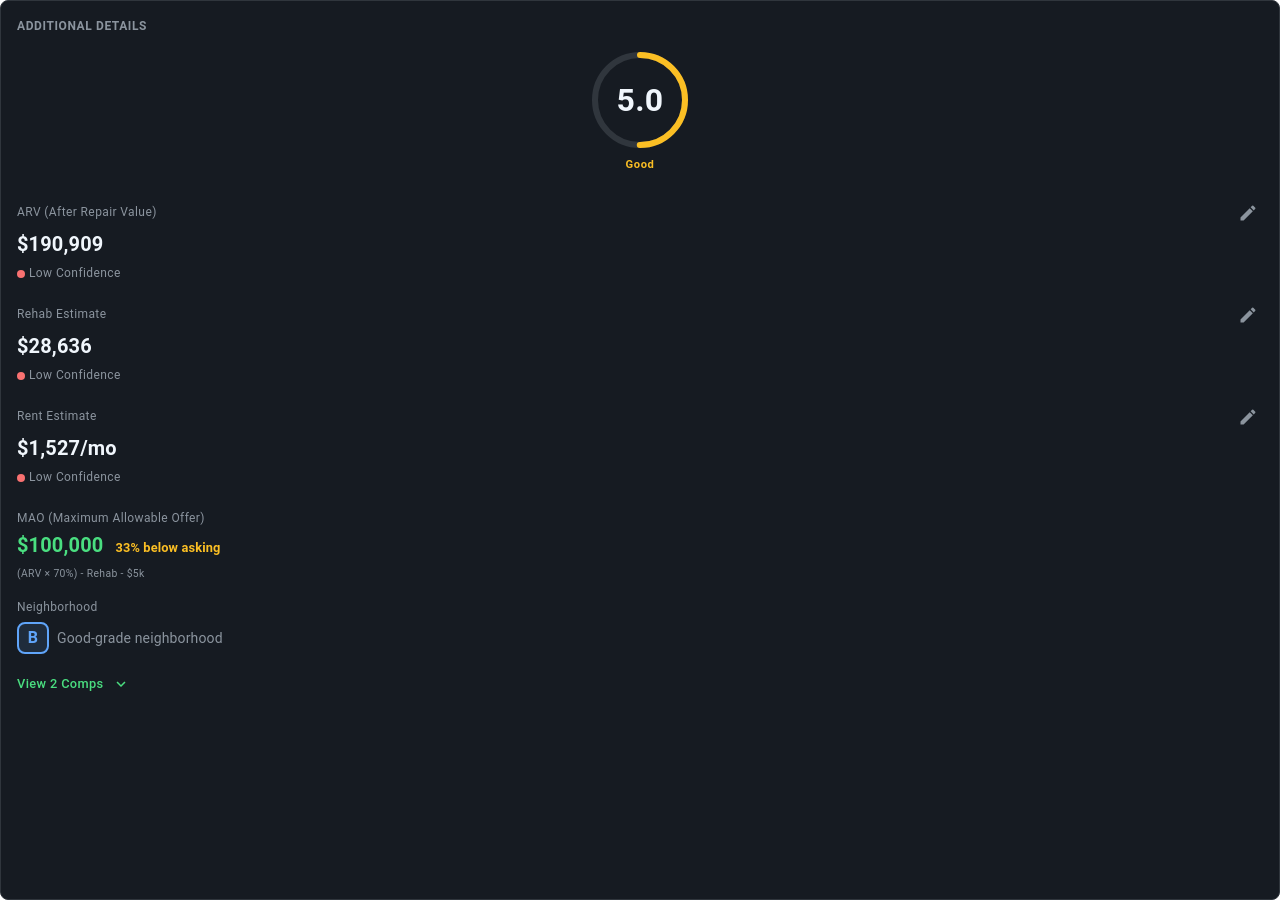
Scenario: EvaluationSection › comparables with RentCast data (TASK-100) › should display beds/baths for comps
// Expand comps section
Click the button "View 2 Comps": x=72, y=684 [17,673,128,695]
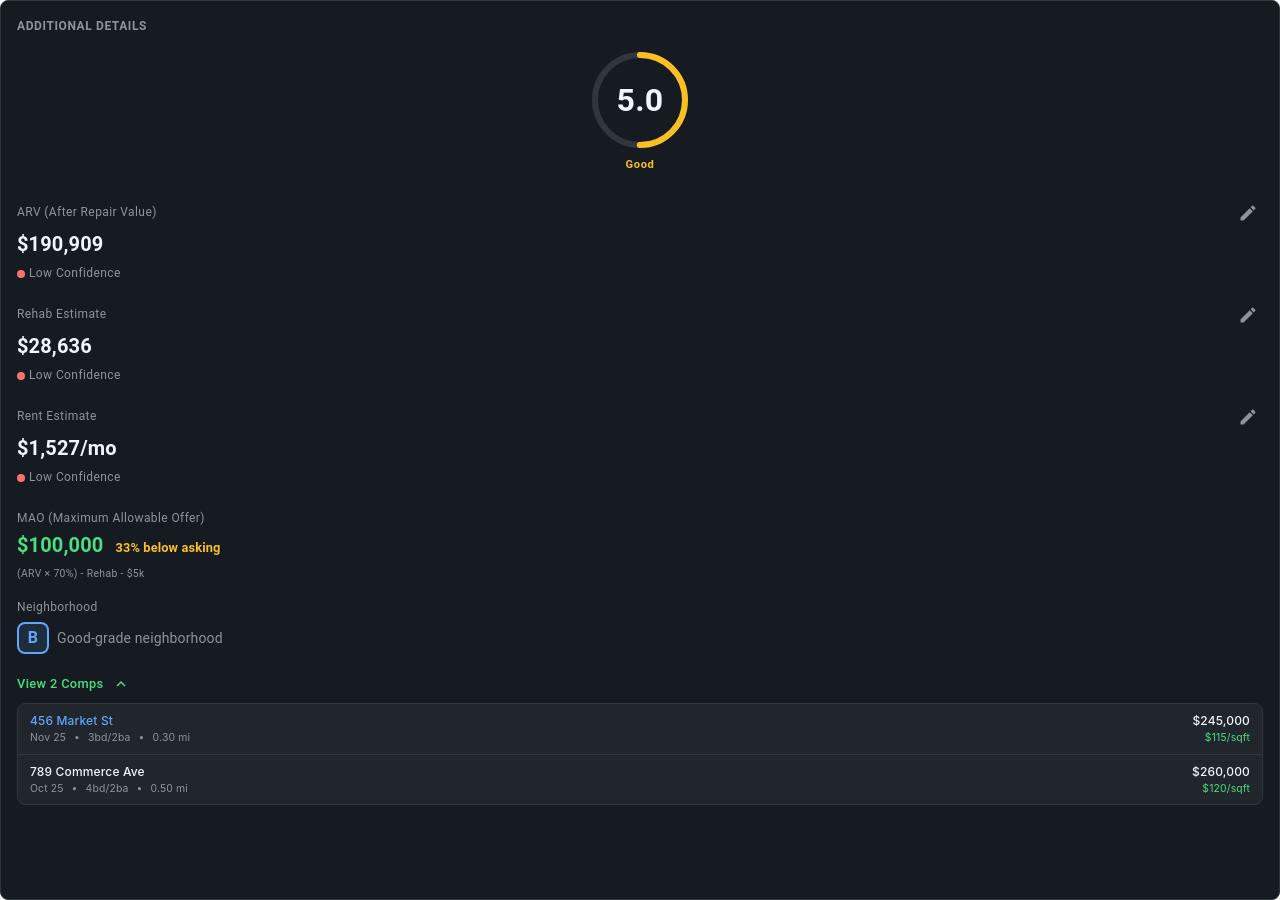
Expected: the text "3bd/2ba" is shown, [88,730,131,746]
Expected: the text "4bd/2ba" is shown, [86,781,128,796]
